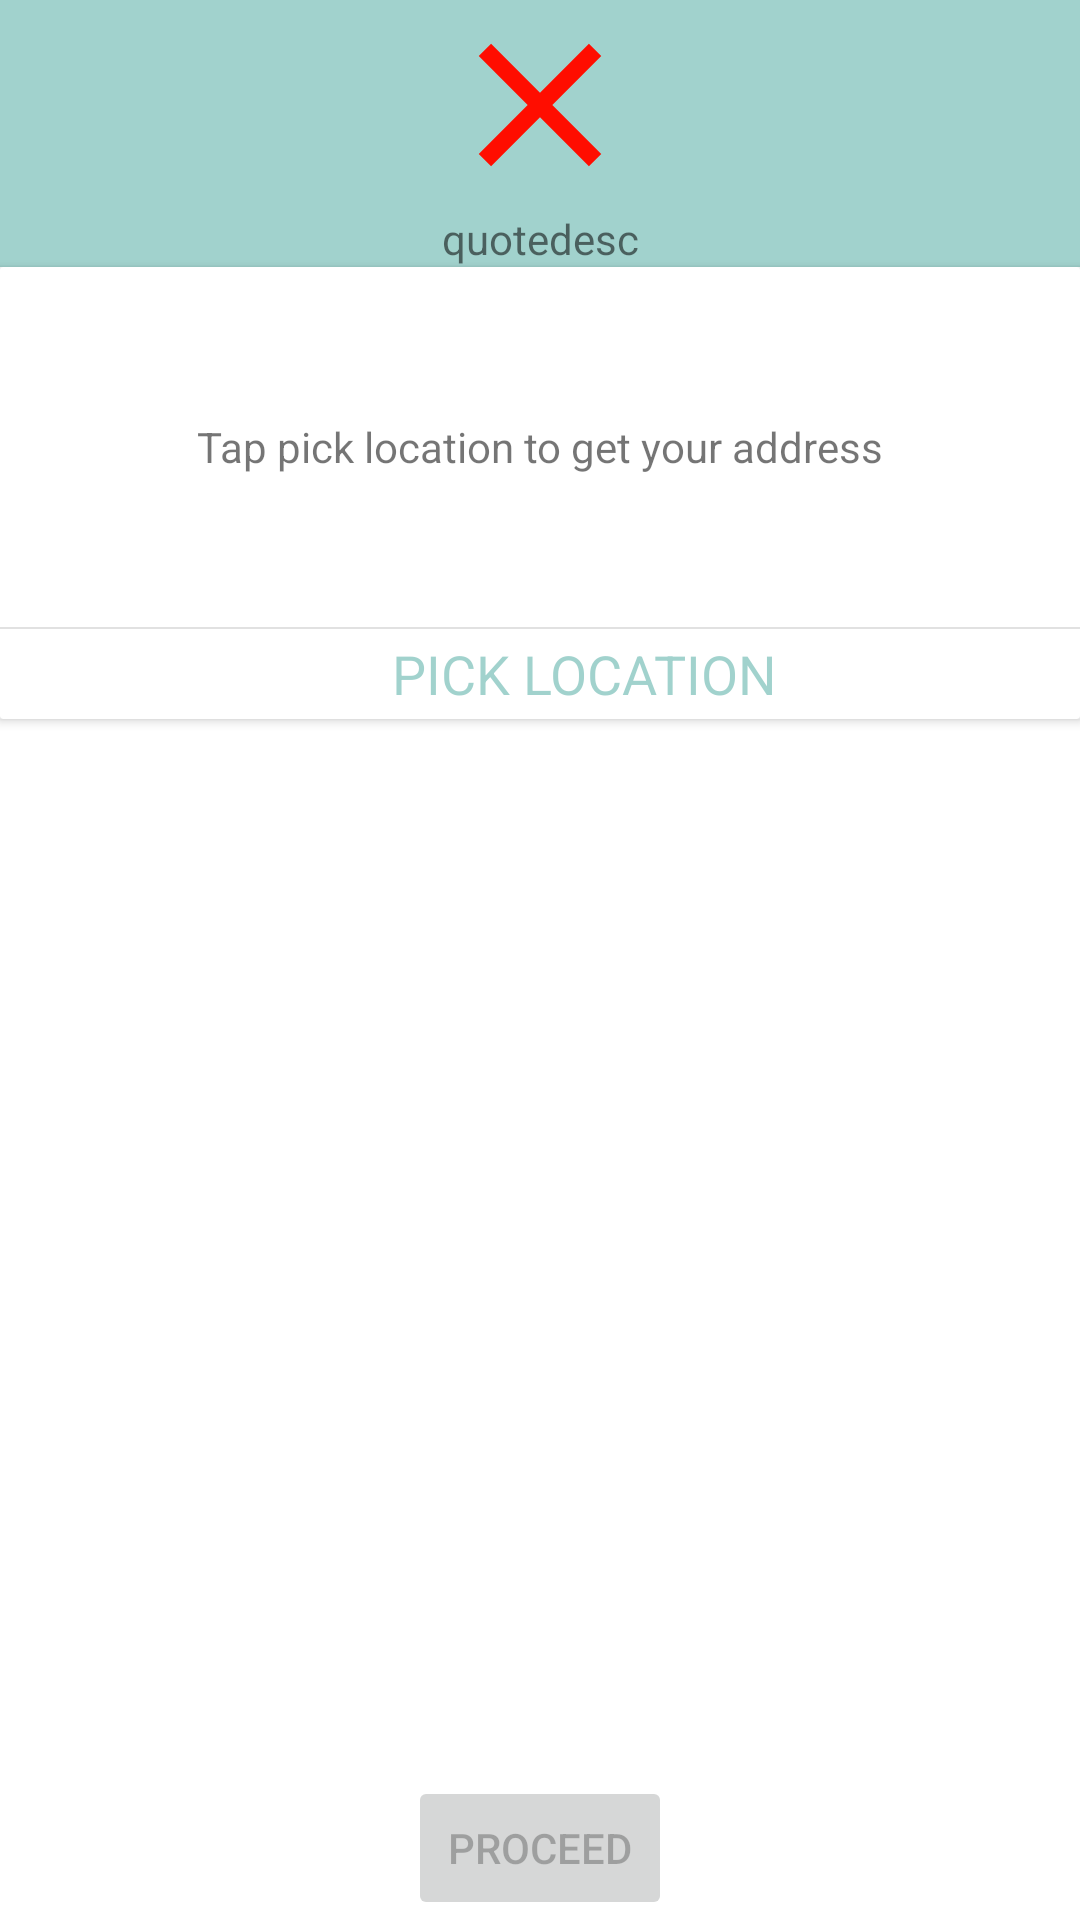

Point at icon controls on the screen. Image size 1080px x 1920px, points as (x,y).
close: (540,105)
